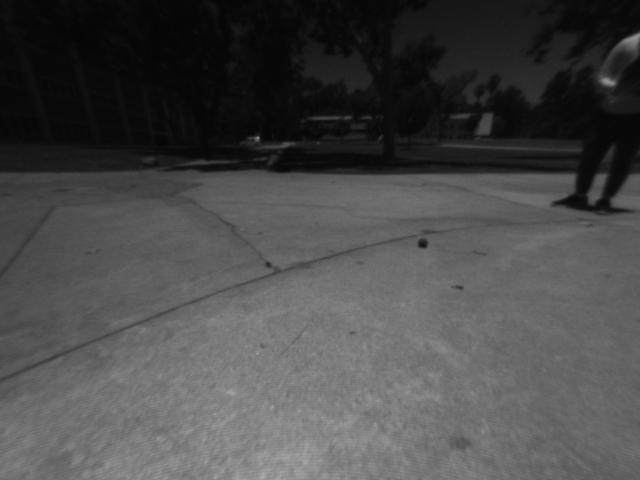dogtoy: (414, 233, 436, 252)
